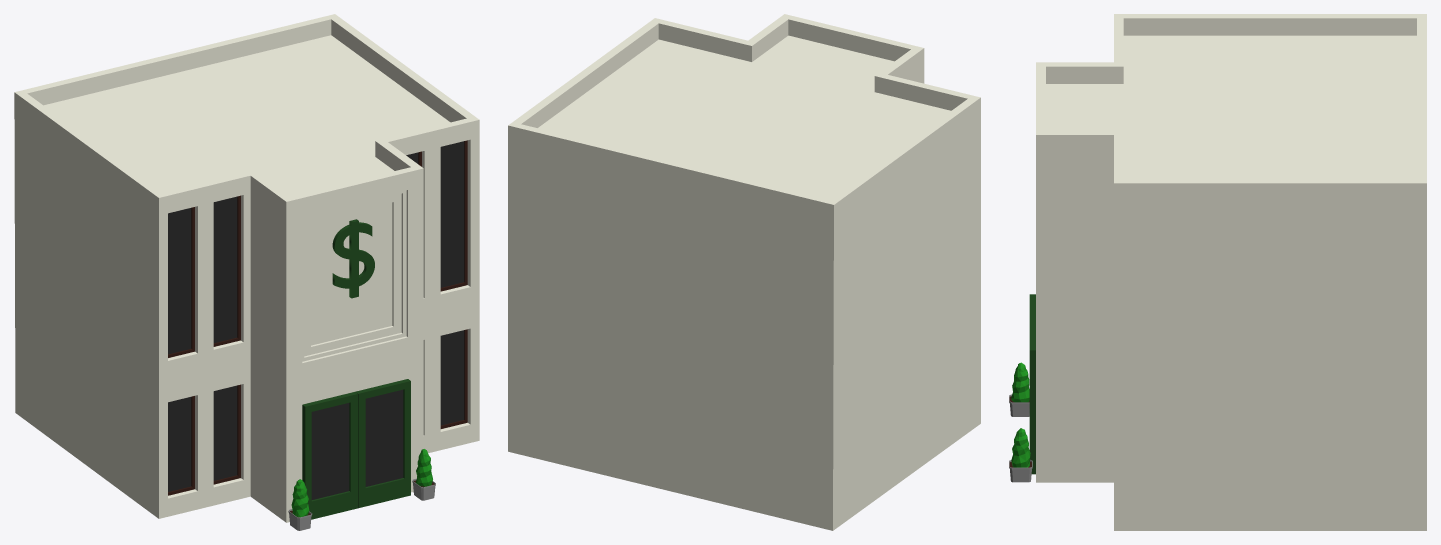
3 renders of one model, left to right at view 1: azimuth 30°, elevation 25°; view 2: azimuth 150°, elevation 25°; view 3: azimuth 270°, elevation 25°, orthographic. The views are drawn at different scales.
Visible parts, largest first — view 1: Vaso.002; view 2: Vaso.002; view 3: Vaso.002.
Part boxes in pixels (x1,y1,x2,y2): Vaso.002: (14, 14, 479, 530); Vaso.002: (508, 14, 980, 530); Vaso.002: (1009, 14, 1426, 530).
Size of the model in its own units: 1177 by 1125 by 1226.
